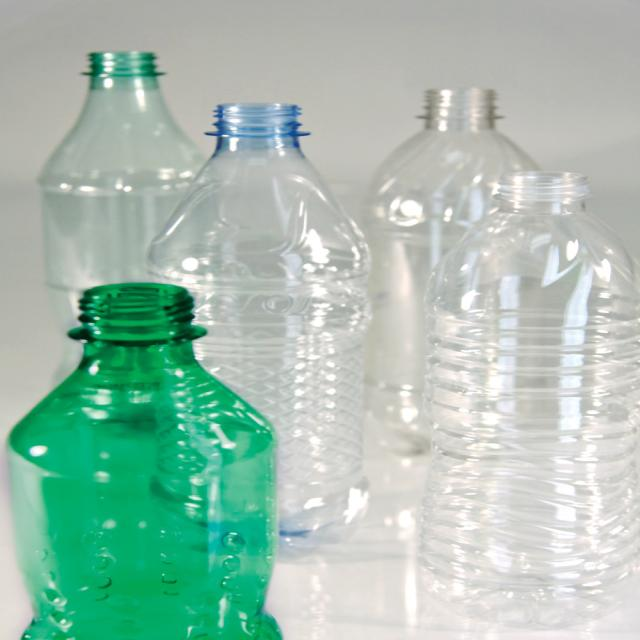plastic_bottle: (7, 106, 313, 636), (364, 132, 639, 639), (340, 86, 589, 526)
